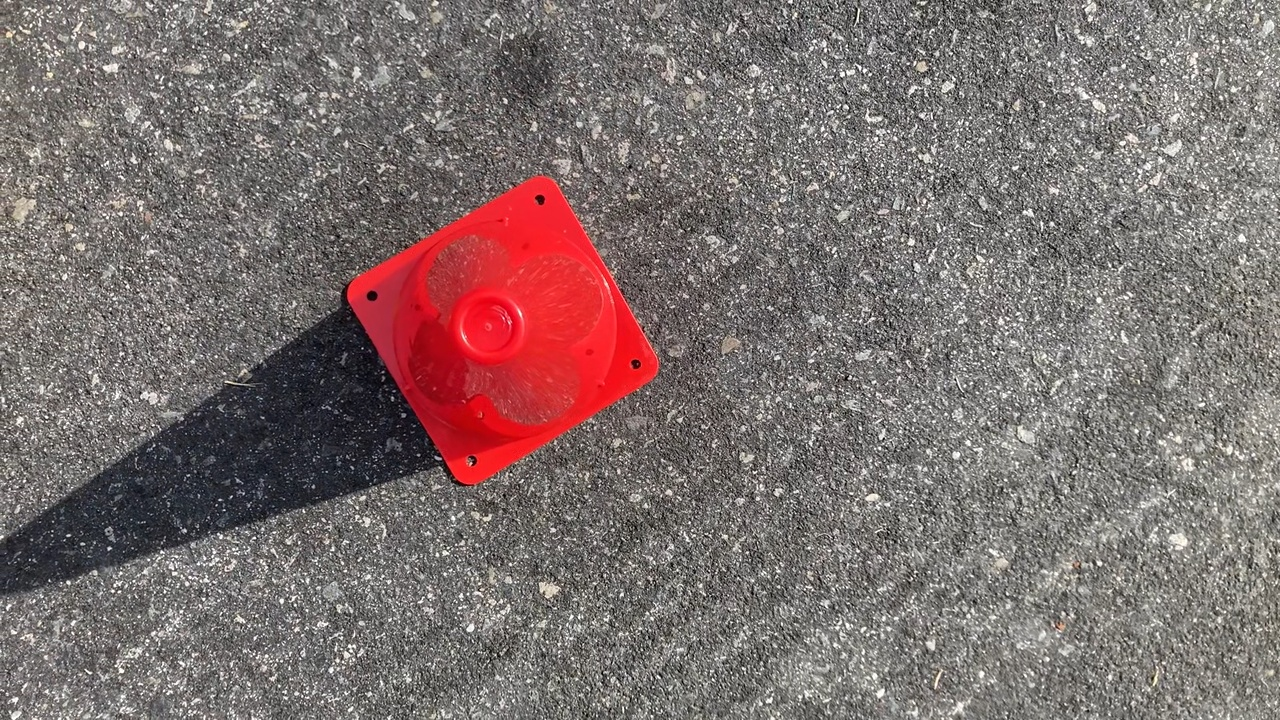red_cone: (340, 173, 663, 488)
